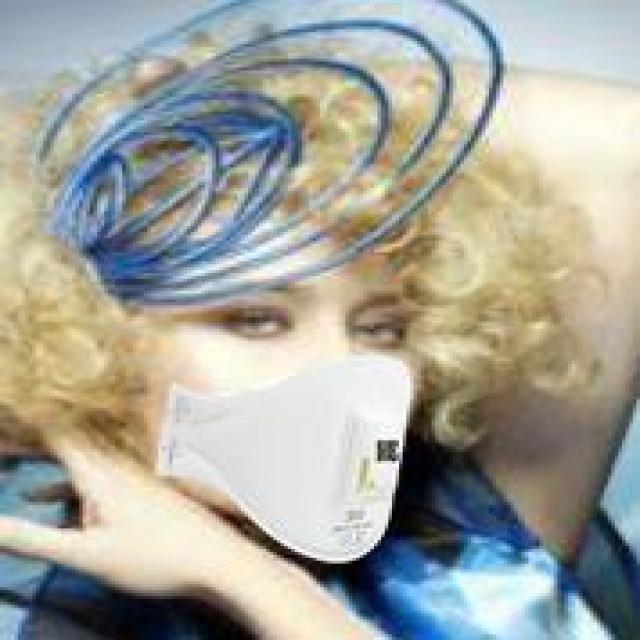mask: (79, 159, 543, 593)
